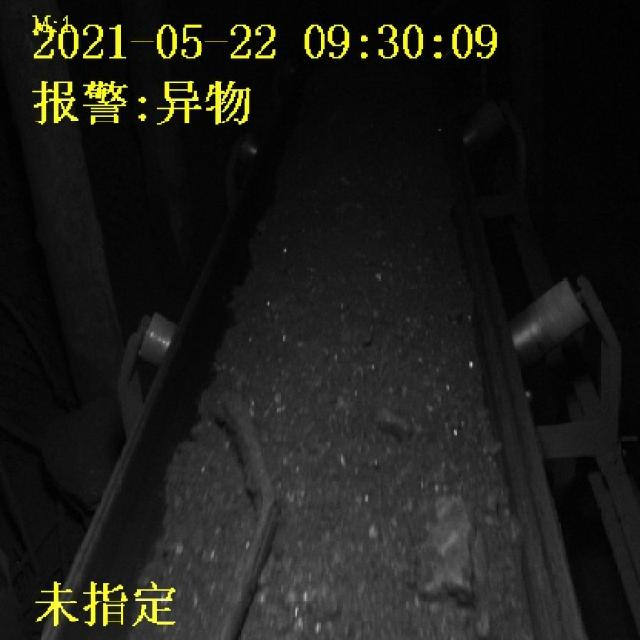bolt: (206, 387, 280, 640)
large_sized_coal: (408, 492, 483, 598)
